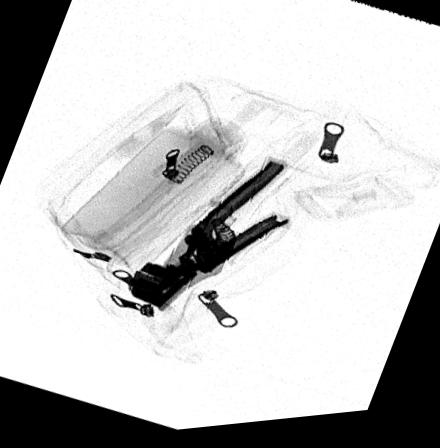Pliers: (128, 166, 289, 312)
